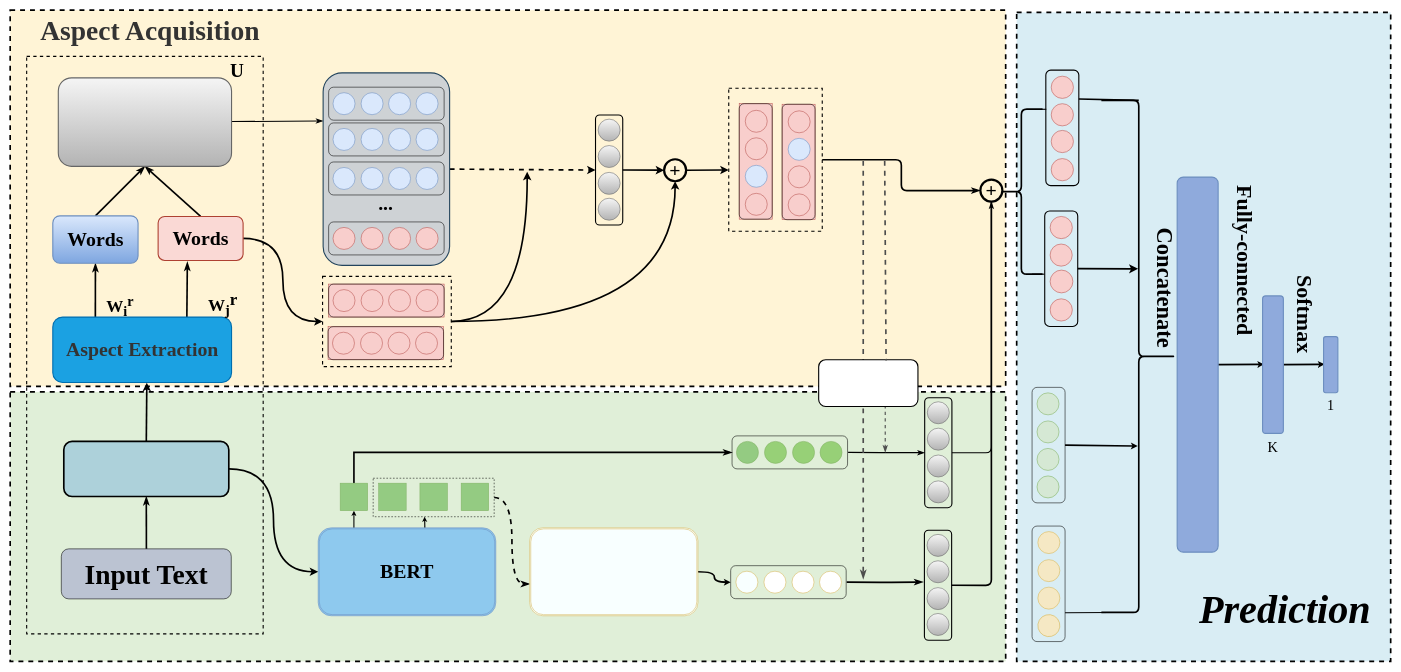
This 1401x672 diagram has some shape labels left out. Here are the shapes that lost their labels. From the top down, the box of each, then its label:
(57, 77, 232, 167): Target Set
(818, 359, 918, 407): Attention
(63, 440, 229, 497): Characters
(529, 527, 698, 616): BiLSTM
